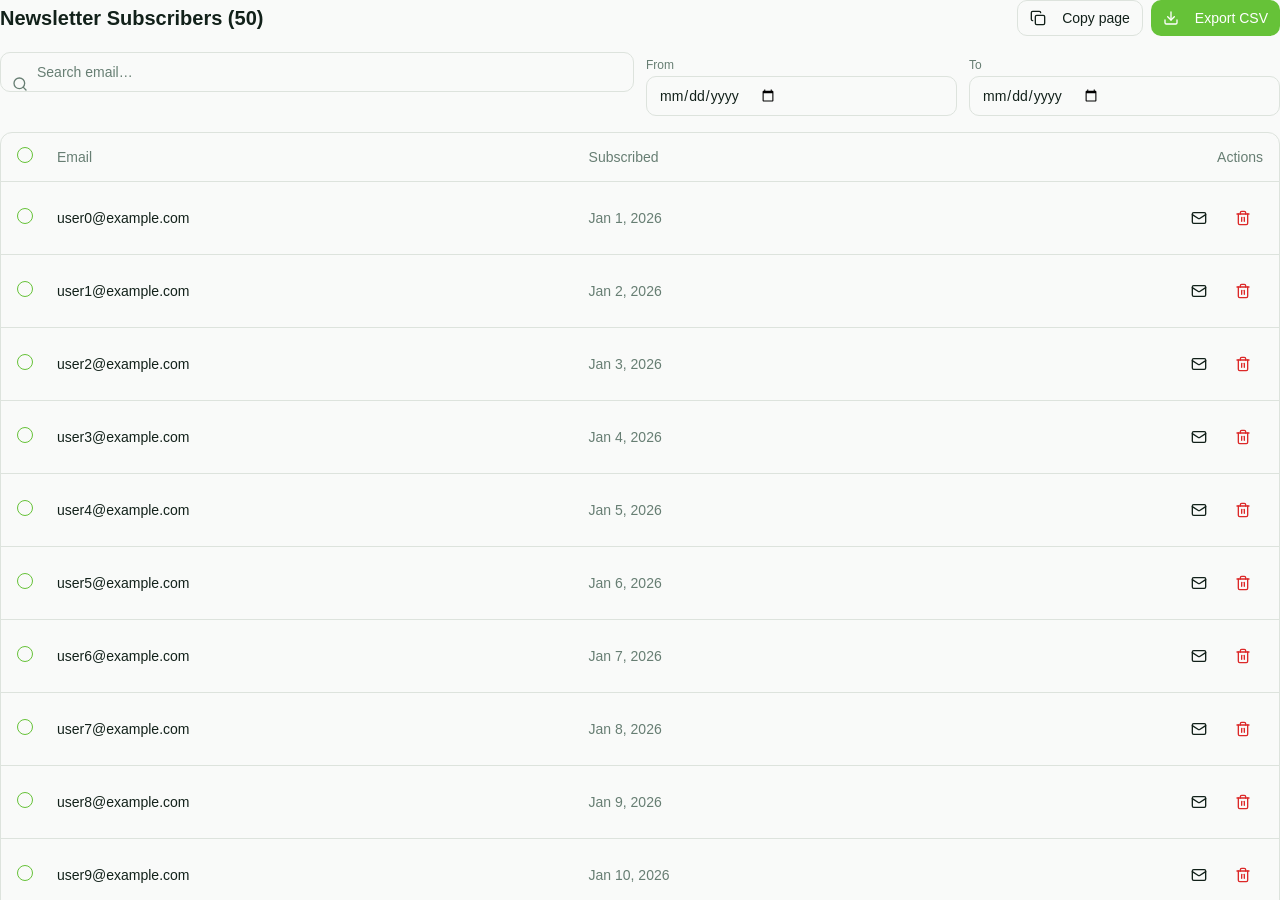
Test case: NewsletterSubscribersManager › offers select-all-matching when total exceeds page and confirmation reflects total
Check: the text "user0@example.com" is shown, box [41,181,572,254]
// Select all on page via header checkbox
What coordinates should you click on to do the following:
click the checkbox named "select all on page"
I would click on:
 (25, 155)
Its box is [17,147,33,163].
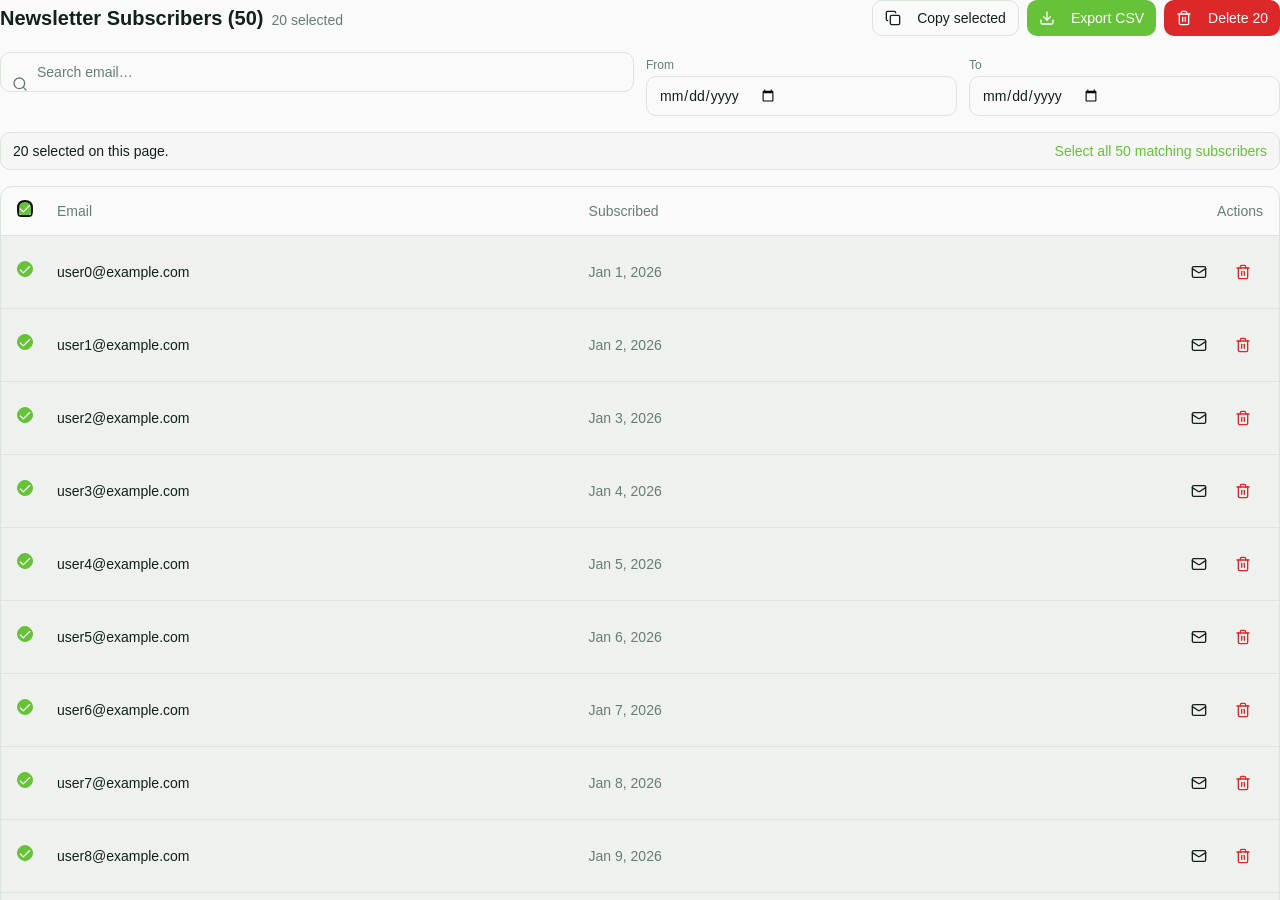
What coordinates should you click on to do the following:
click the button "Select all 50 matching subscribers"
I would click on:
 (1161, 151)
Its box is [1054,141,1267,161].
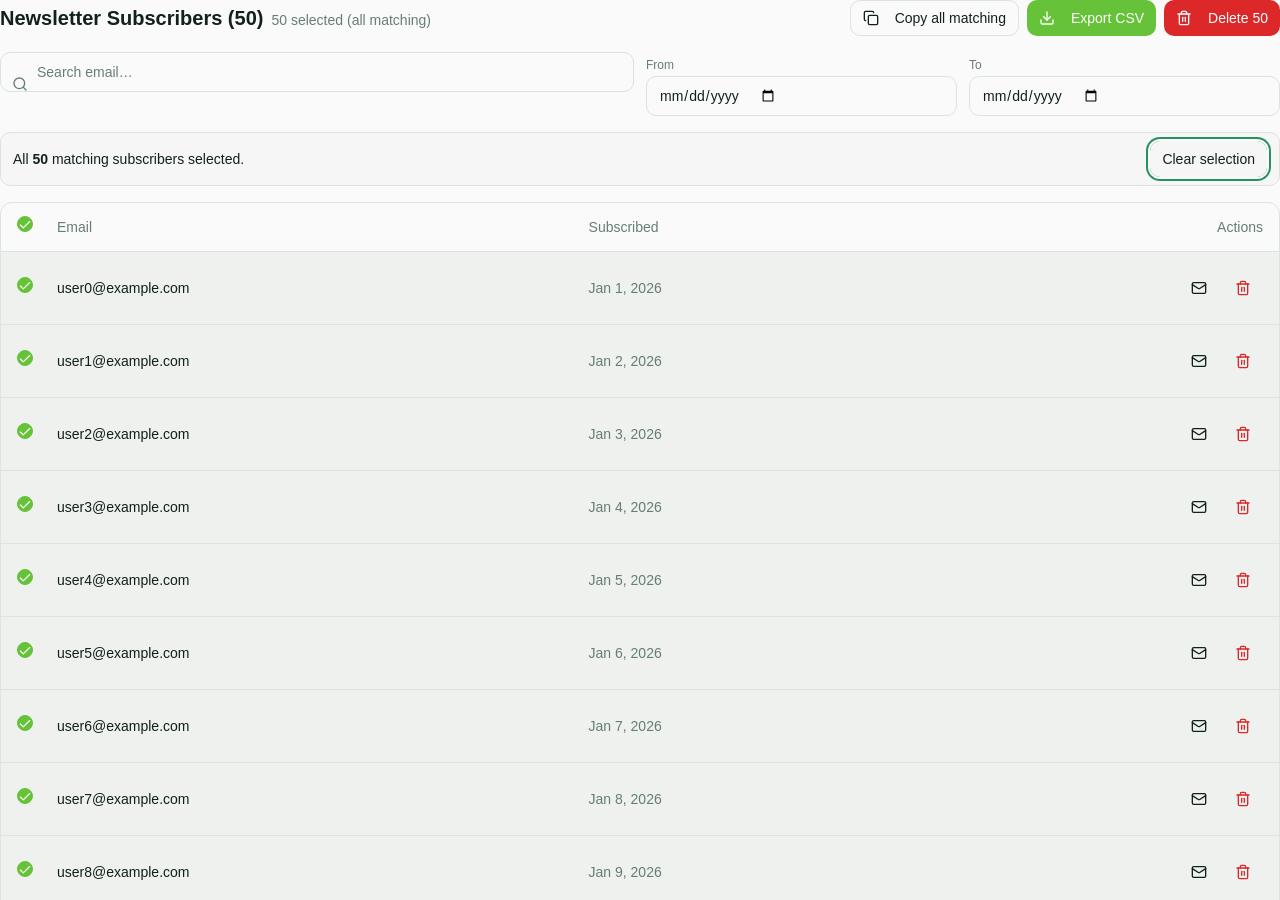
Check: the message shows "All 50 matching subscribers selected", box [0,132,1279,186]
What coordinates should you click on to do the following:
click the button "Delete 50"
I would click on:
 (1222, 18)
Its box is [1164,0,1279,36].
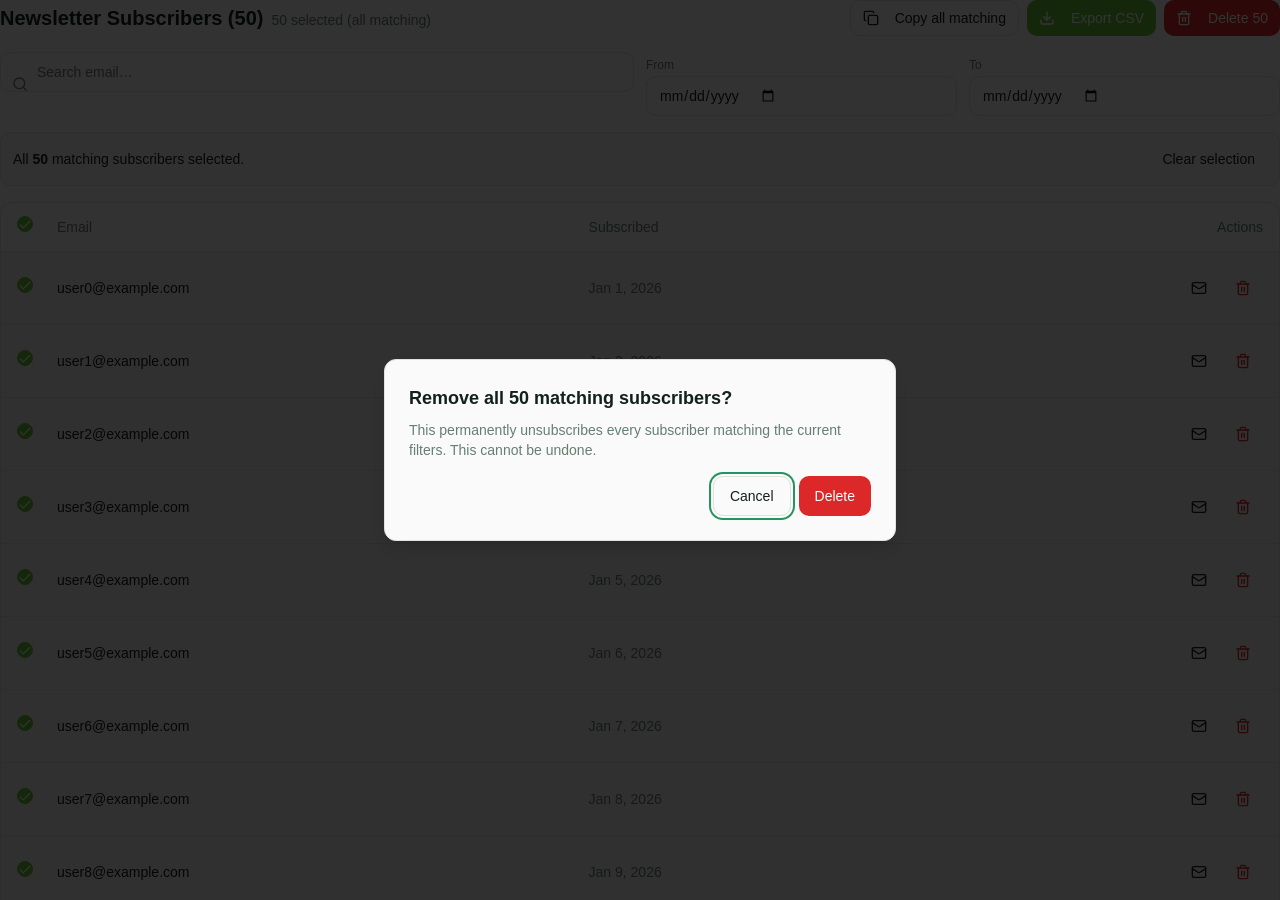
Check: the heading "Remove all 50 matching subscribers?" is shown, box [409,388,732,408]
